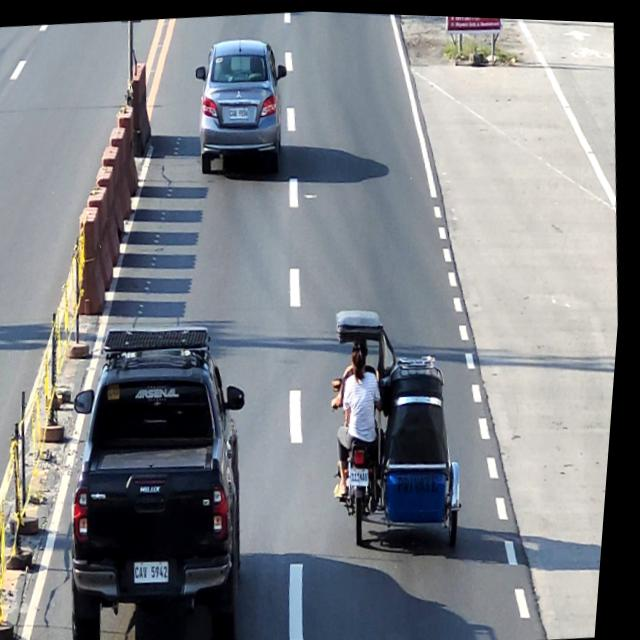Car: (51, 315, 277, 640), (188, 33, 298, 177)
License-Plate: (141, 557, 179, 583), (354, 463, 377, 485), (230, 104, 251, 118)
Tricycle: (321, 297, 484, 558)
